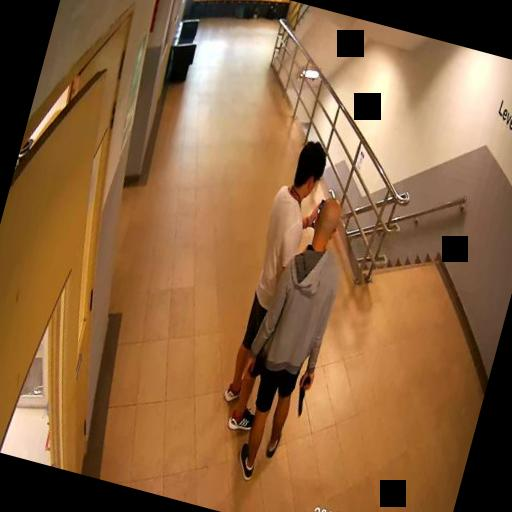Handgun: (290, 370, 312, 416)
